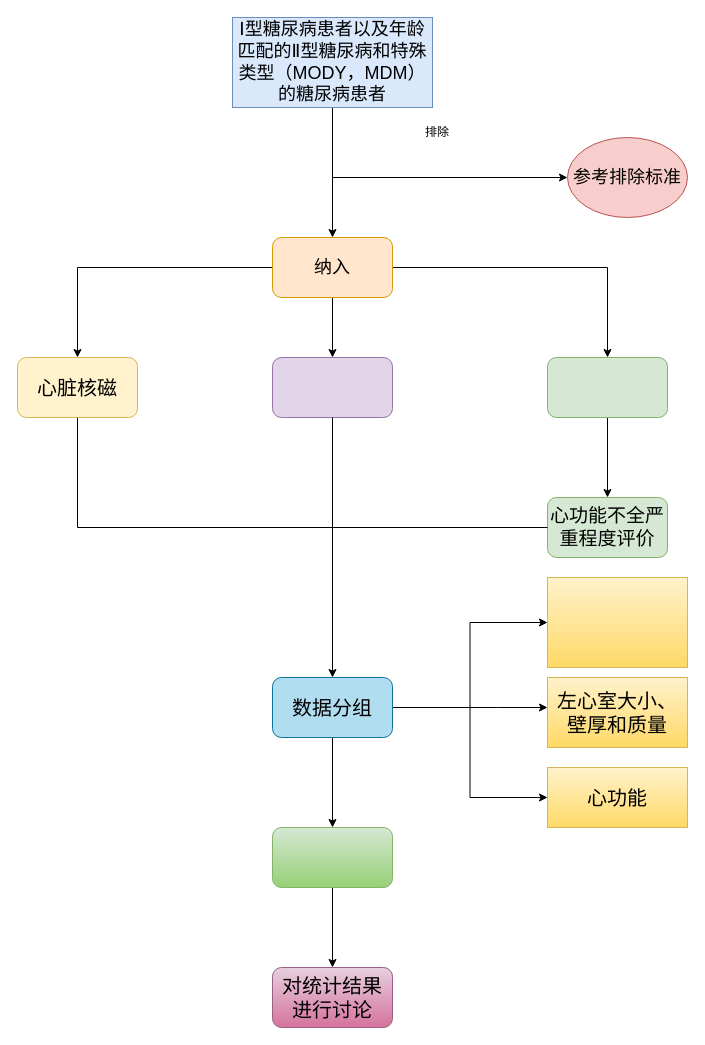
This 705x1045 diagram has some shape labels left out. The shapes that lost their labels are listed below. From the top down, each one's centre as x and y in pixels, then its label:
point (332, 387): 生化指标检测
point (607, 387): 心功能评估
point (617, 622): 生化指标（血糖水平、钙离子浓度、FFA等）
point (332, 857): 统计分析
